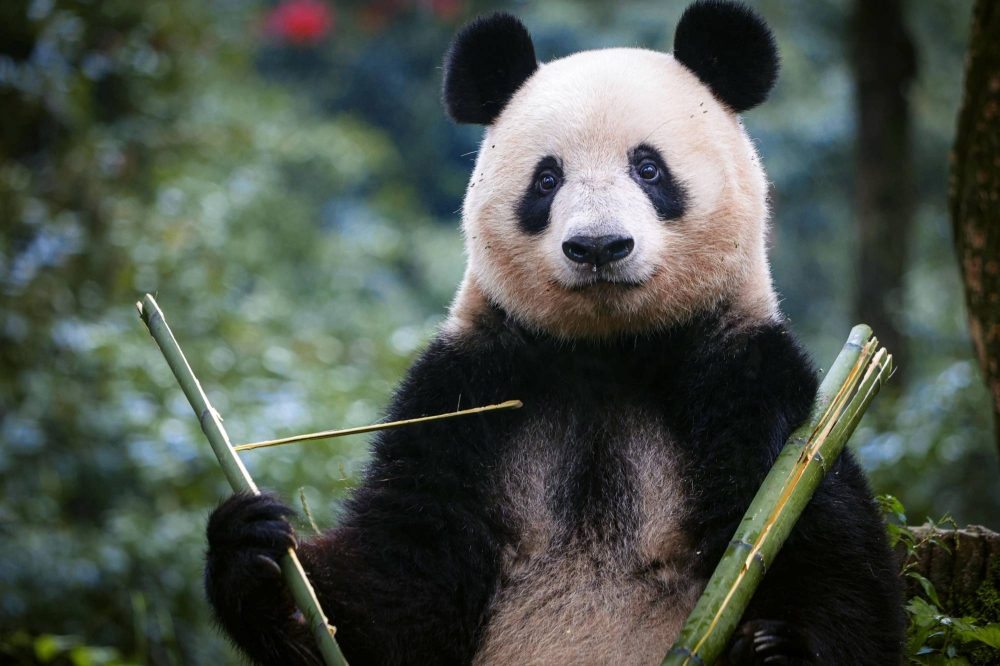Giant panda: (440, 0, 783, 333)
